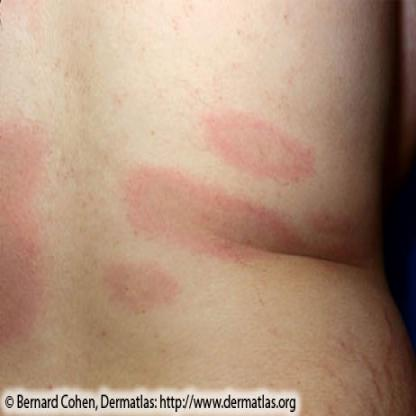Tick: (123, 100, 355, 262), (0, 116, 56, 356), (97, 263, 180, 317)
